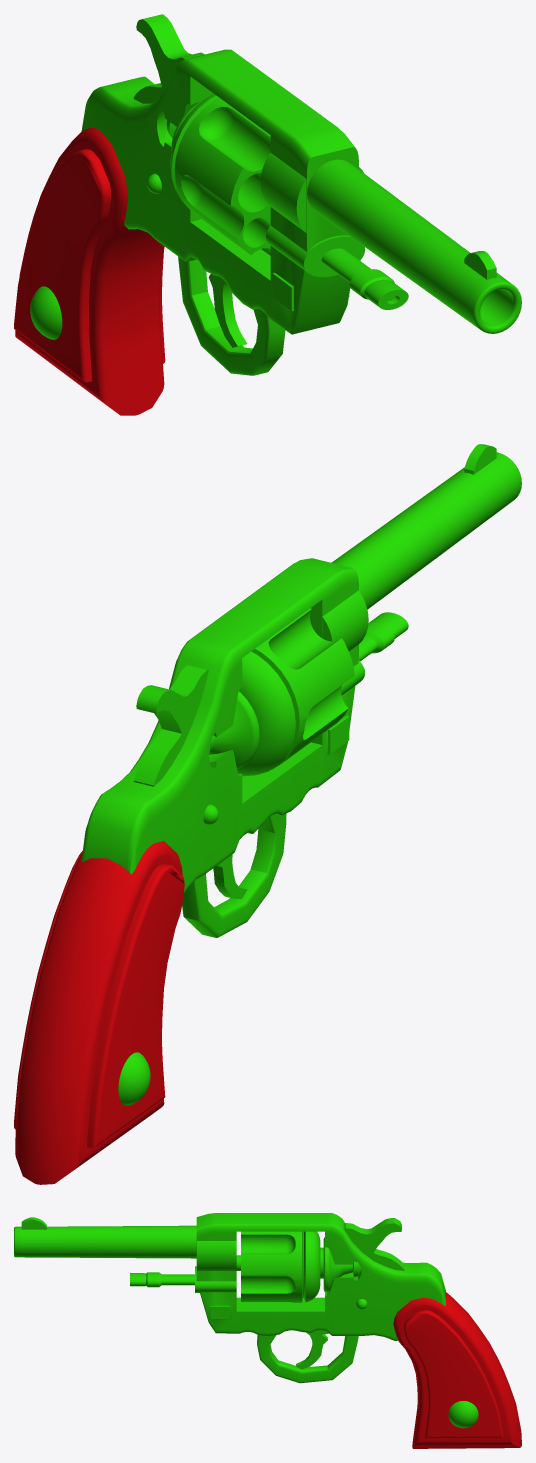
File: Revolver.fbx
3 renders of one model, top to bottom at view 1: azimuth 30°, elevation 25°; view 2: azimuth 150°, elevation 25°; view 3: azimuth 270°, elevation 25°, orthographic. The views are drawn at different scales.
Parts seen in each view (by area): view 1: Revolver; view 2: Revolver; view 3: Revolver.
Part boxes in pixels (x1=…): Revolver: x1=14, y1=14, x2=521, y2=415; Revolver: x1=14, y1=444, x2=521, y2=1184; Revolver: x1=14, y1=1213, x2=521, y2=1448.
Size of the model in its own units: 3.31 by 10.47 by 21.14.
